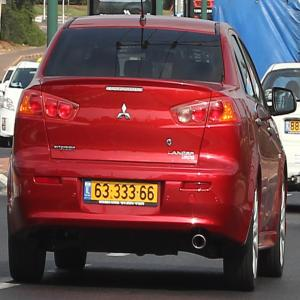Vehicle-registration-plate: (83, 181, 159, 206), (286, 119, 300, 134)
